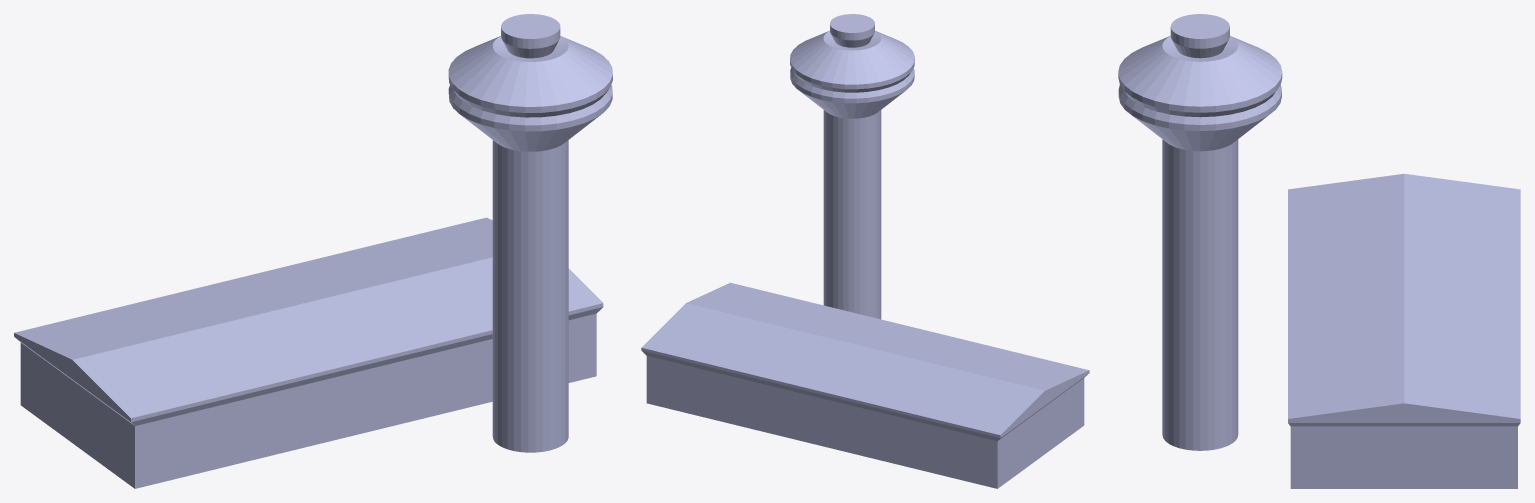
Rendered from airport.fbx.
3 views of the same model, side by side, from view 1: azimuth 30°, elevation 25°; view 2: azimuth 150°, elevation 25°; view 3: azimuth 270°, elevation 25° (orthographic). The views are drawn at different scales.
Visible parts, largest first — view 1: Cube, Cylinder; view 2: Cube, Cylinder; view 3: Cube, Cylinder.
Part boxes in pixels (x1,y1,x2,y2): Cube: (14, 217, 603, 488); Cylinder: (448, 14, 612, 452); Cube: (641, 282, 1089, 488); Cylinder: (790, 14, 914, 319); Cube: (1288, 173, 1520, 488); Cylinder: (1118, 14, 1282, 450).
Bounding box in the file's own units: 1433 × 1188 × 1061.
